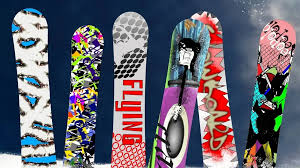snowboard: (149, 19, 210, 168), (240, 16, 296, 168), (186, 12, 240, 168), (10, 6, 59, 168), (64, 24, 107, 168), (110, 11, 149, 168)
